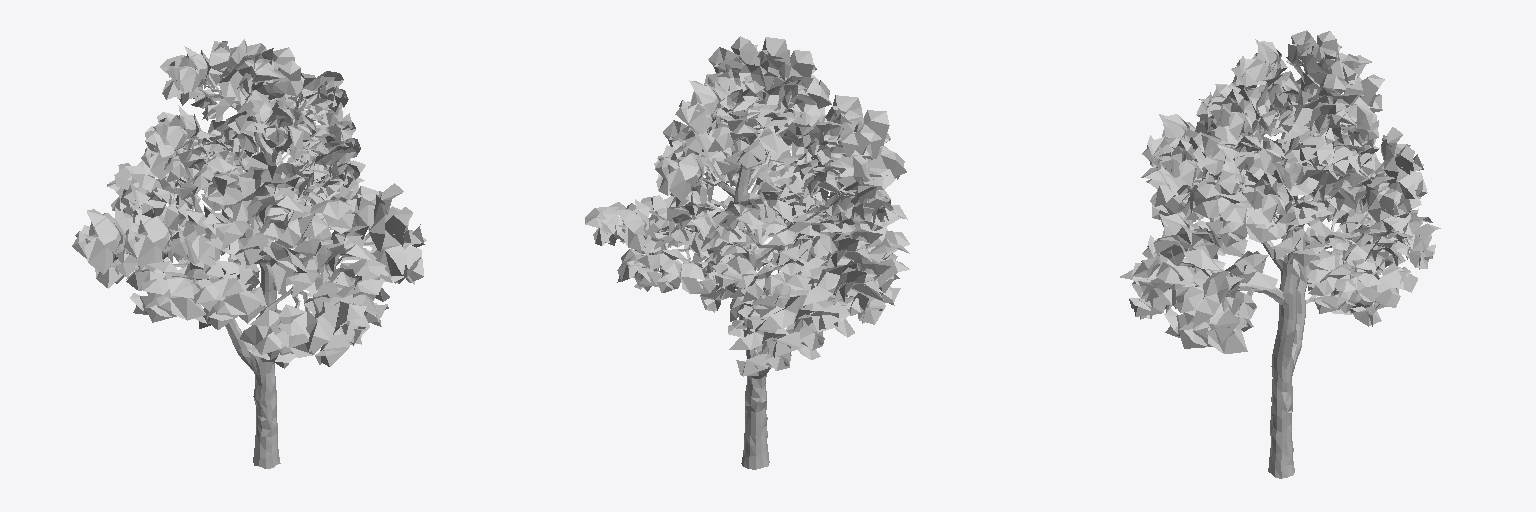
Rendered from tree1.obj.
3 renders of one model, left to right at view 1: azimuth 30°, elevation 25°; view 2: azimuth 150°, elevation 25°; view 3: azimuth 270°, elevation 25°, orthographic.
Parts seen in each view (by area): view 1: AM113_048_Acer_platanoides; view 2: AM113_048_Acer_platanoides; view 3: AM113_048_Acer_platanoides.
Boxes of the visible parts, <box> form: AM113_048_Acer_platanoides: <box>72,39,426,468</box>; AM113_048_Acer_platanoides: <box>585,36,909,469</box>; AM113_048_Acer_platanoides: <box>1120,30,1440,478</box>.
Bounding box in the file's own units: 5736 × 8139 × 5643.